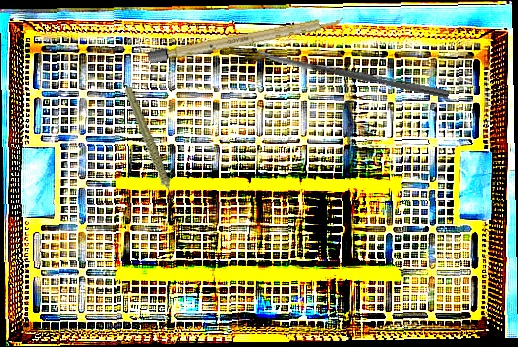Handpiece: (123, 83, 175, 209)
Scalpel Handle: (147, 14, 345, 64)
Surgical Spoon: (253, 48, 450, 99)
